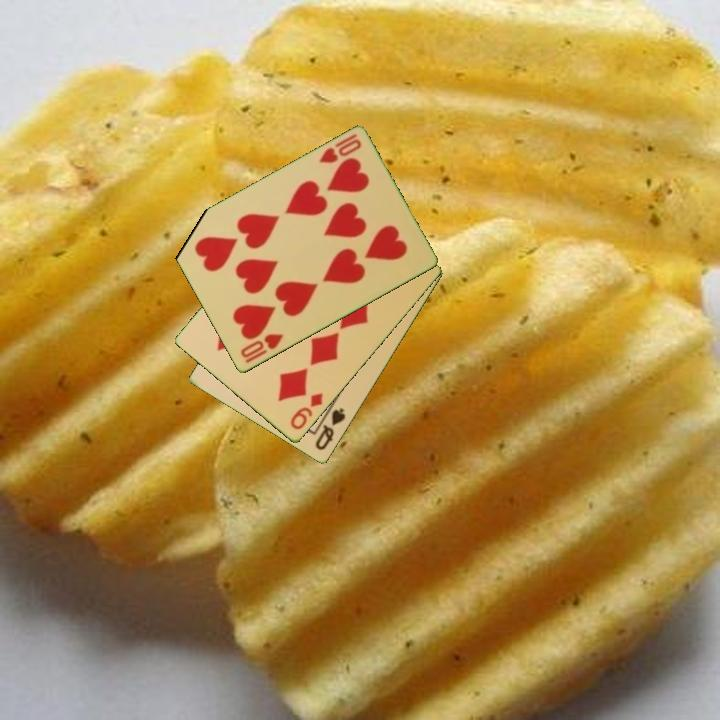10h: (315, 130, 364, 167), (237, 330, 286, 366)
9d: (287, 389, 326, 433)
Qs: (312, 404, 349, 454)
